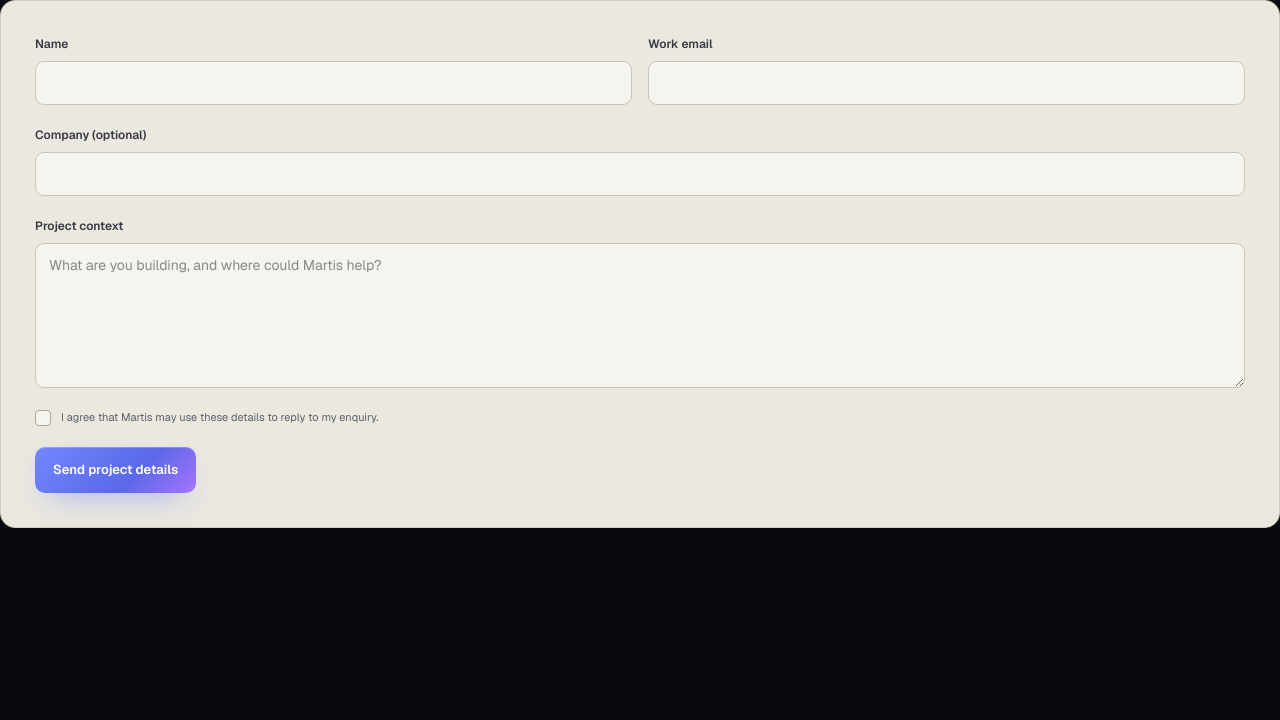
ContactForm › validates and reports a successful submission
Click the button "Send project details" at point(116, 470), box [35,447,196,493]
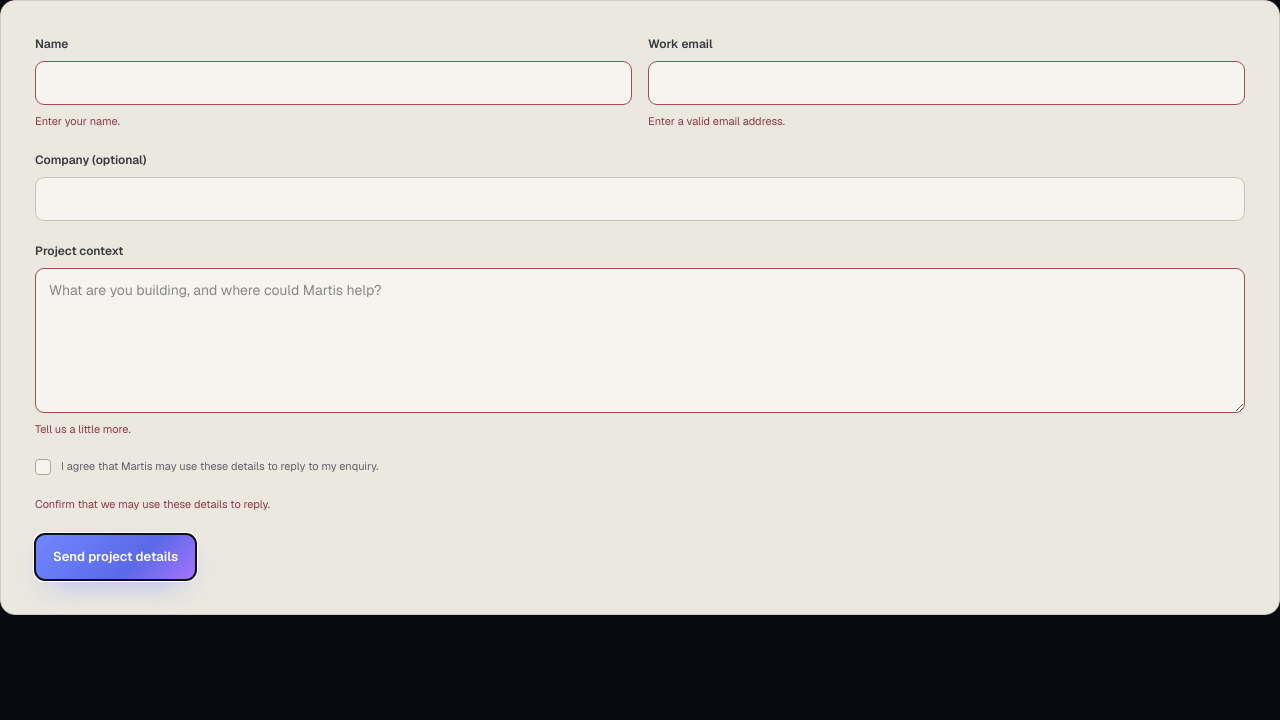
Expected: the text "Enter your name." is shown, [35,114,120,128]
Type "Ana Silva" into the field labelled "Name" at point(334, 83), box [35,61,632,105]
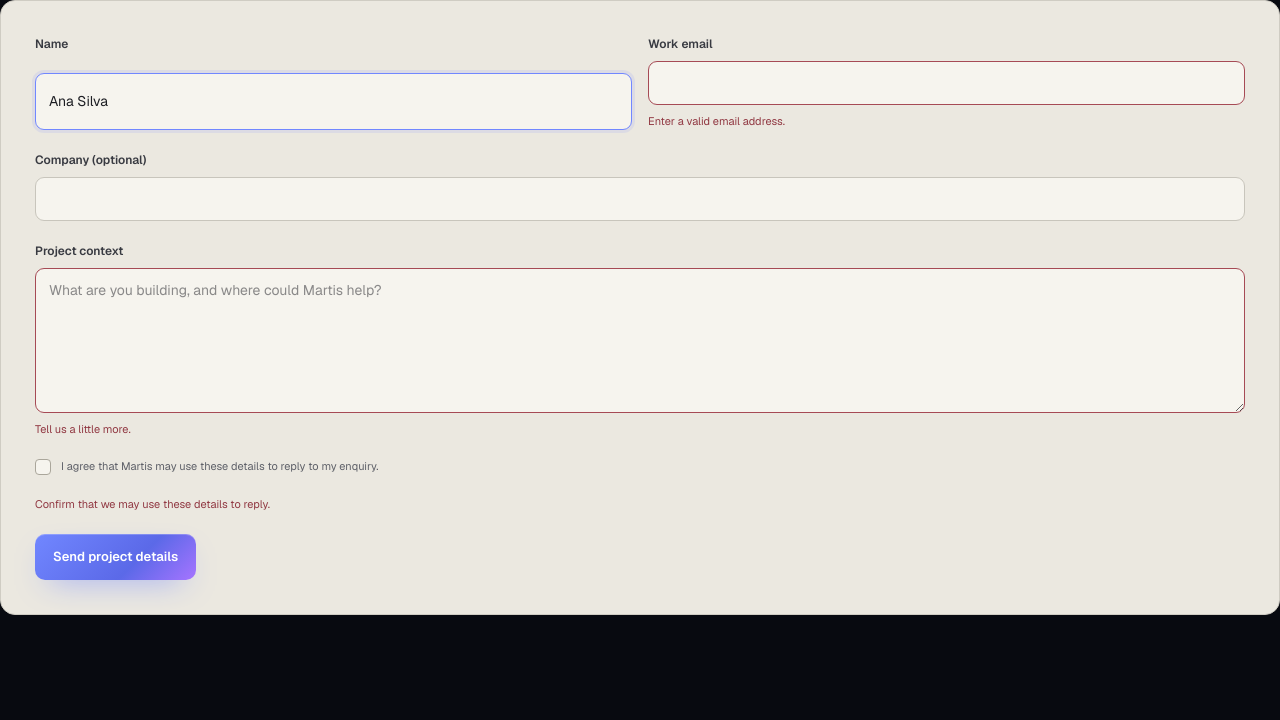
Type "ana@example.com" into the field labelled "Work email" at point(946, 83), box [648,61,1245,105]
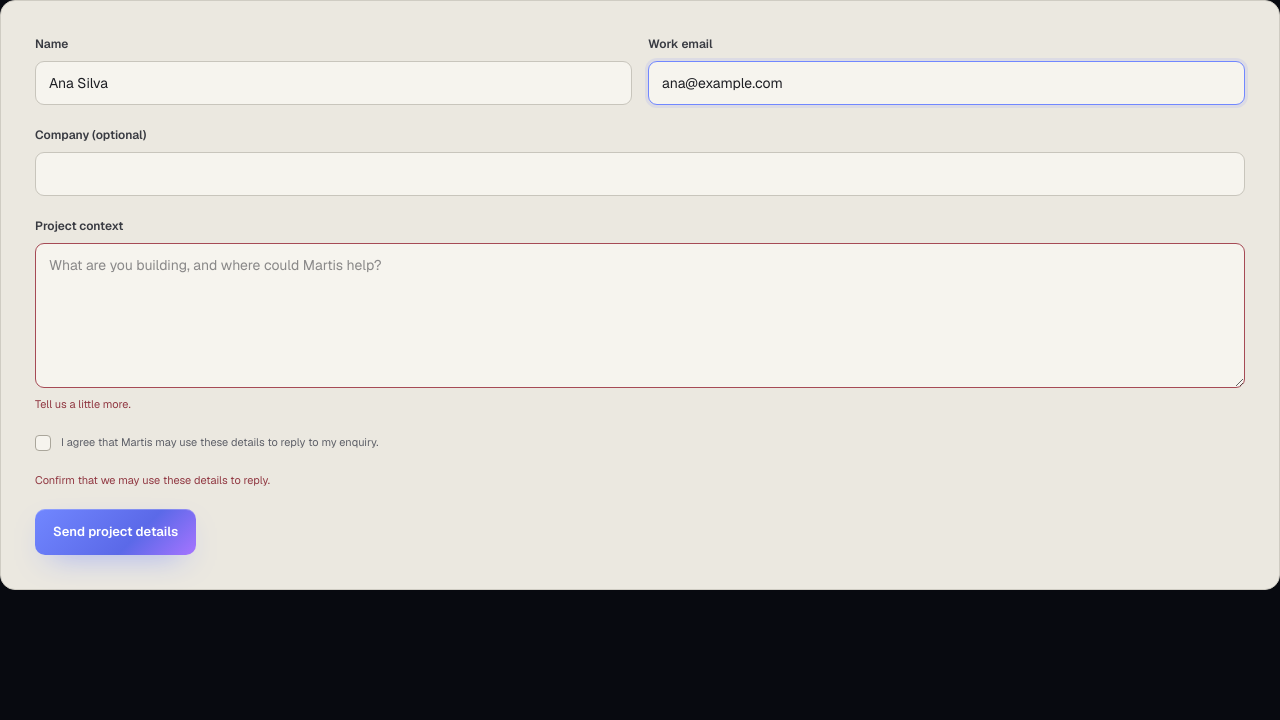
Type "We deliver several Laravel client platforms." into the text box labelled "Project context" at point(640, 316), box [35,243,1245,388]
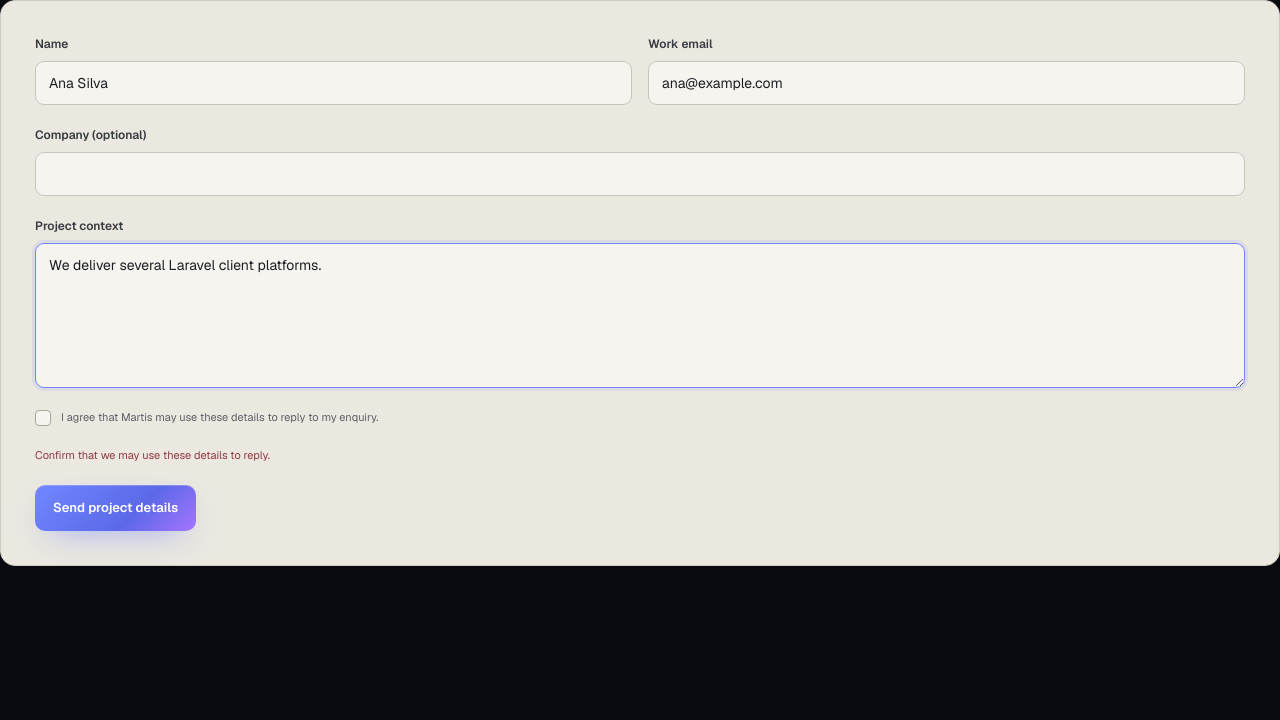
Click the checkbox labelled "I agree" at point(43, 418), box [35,410,51,426]
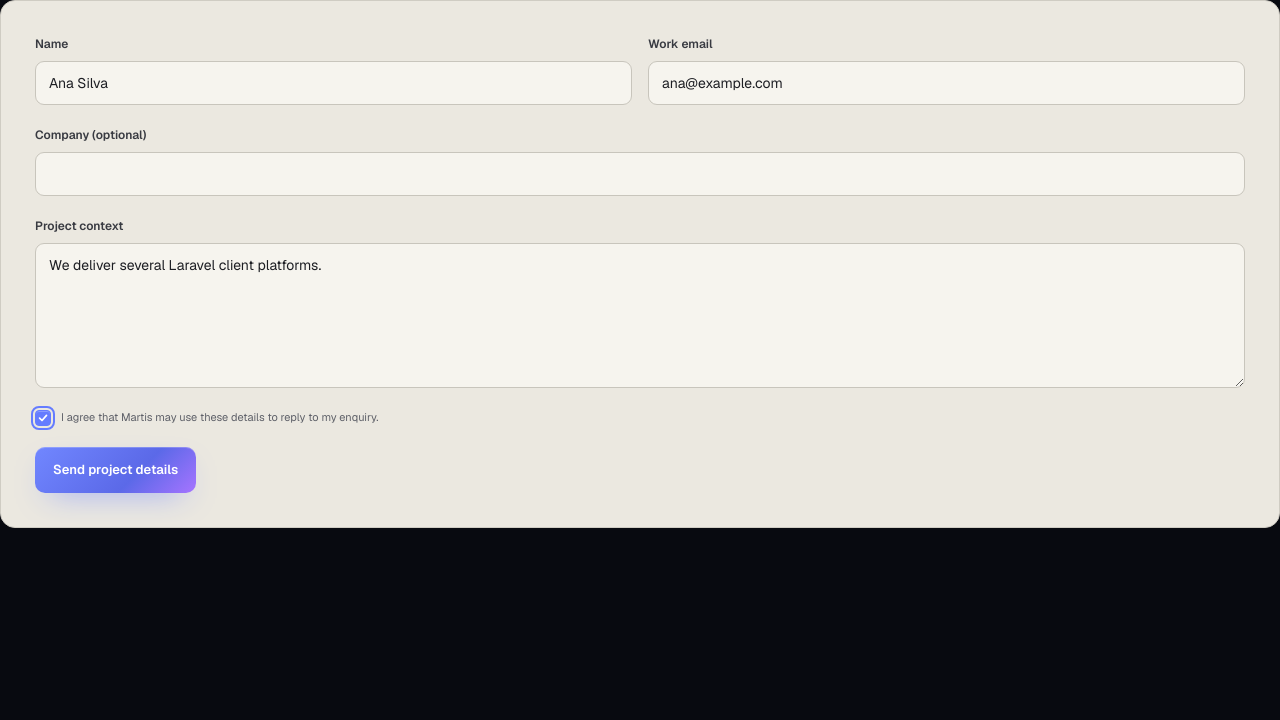
Click the button "Send project details" at point(116, 470), box [35,447,196,493]
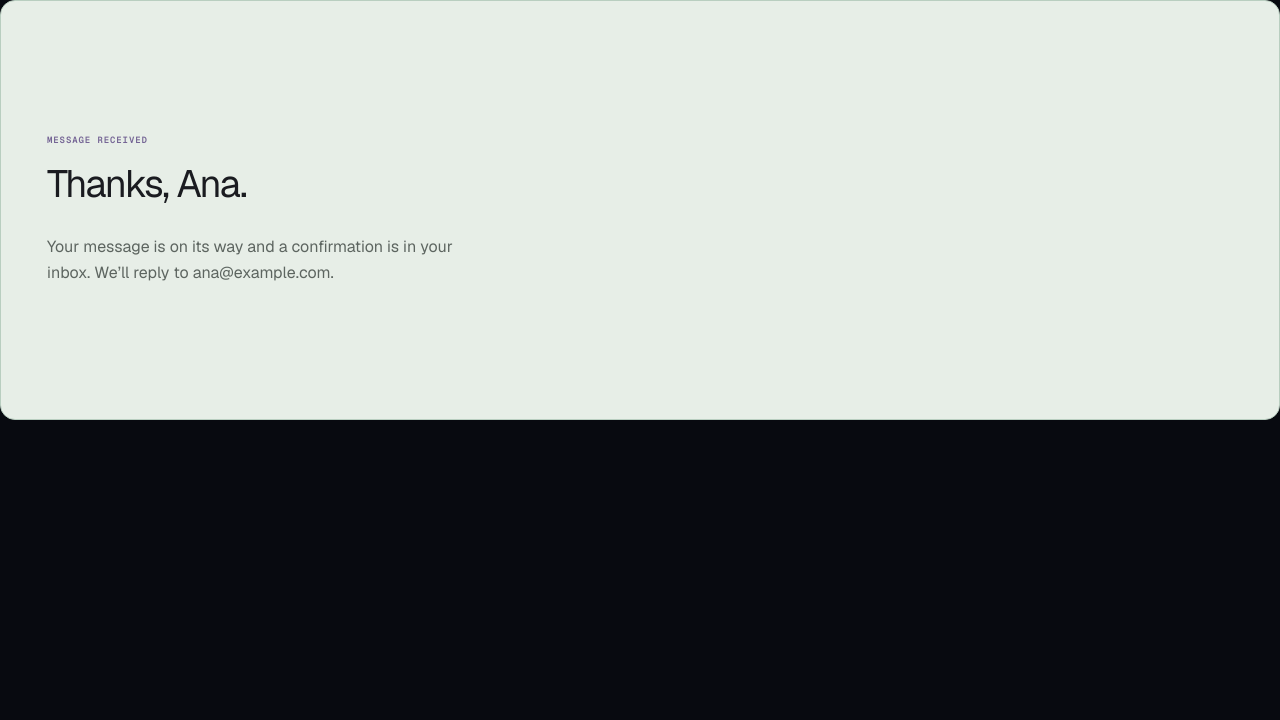
Expected: the heading "Thanks, Ana." is shown, [47,159,246,208]
